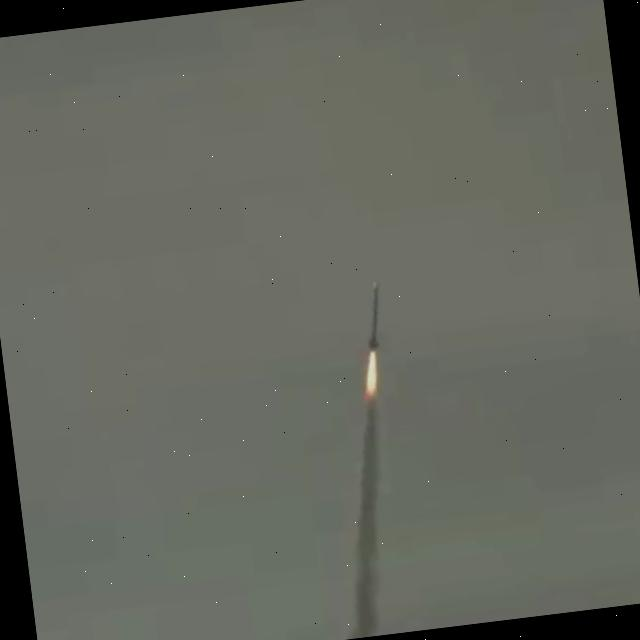smoke_trail_with_rocket: (348, 283, 380, 639)
